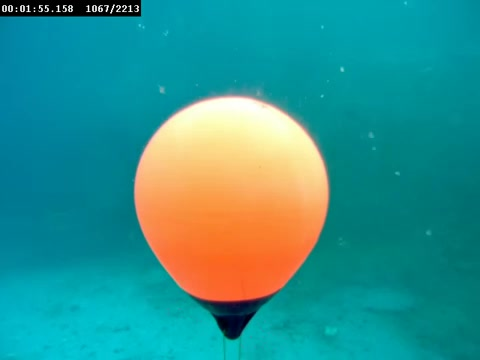buoy_red: (131, 87, 339, 338)
